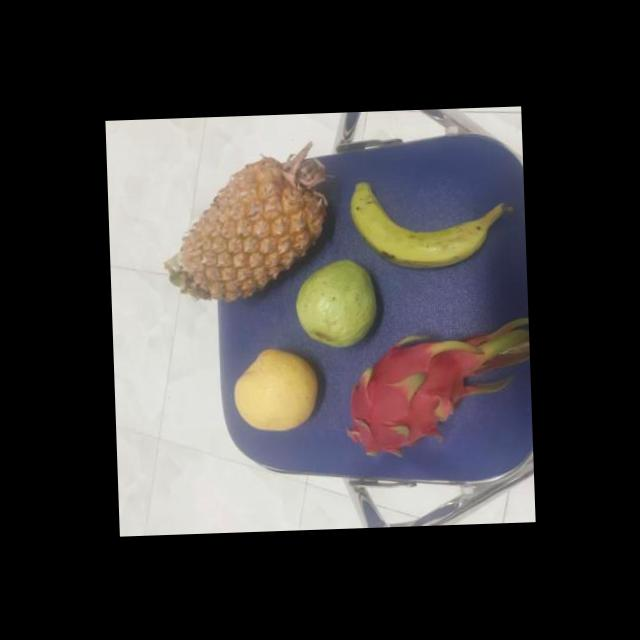banana: (351, 176, 495, 272)
guava: (288, 256, 382, 352)
pear: (229, 345, 321, 437)
pineapple: (167, 149, 333, 305)
pitaya: (348, 331, 488, 464)
